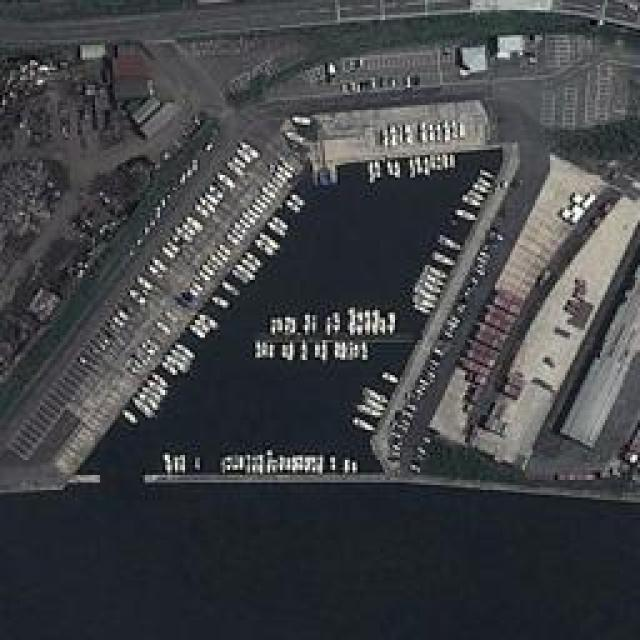Port: (0, 0, 638, 515)
